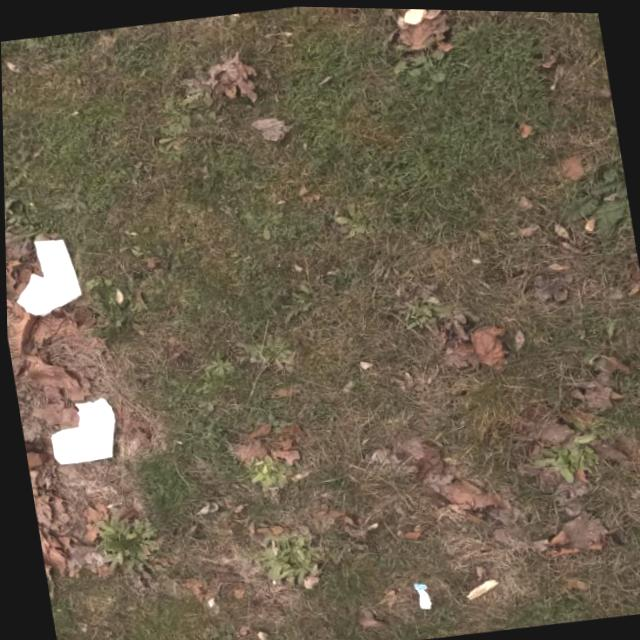Paper: (4, 235, 83, 321), (41, 394, 120, 469)
